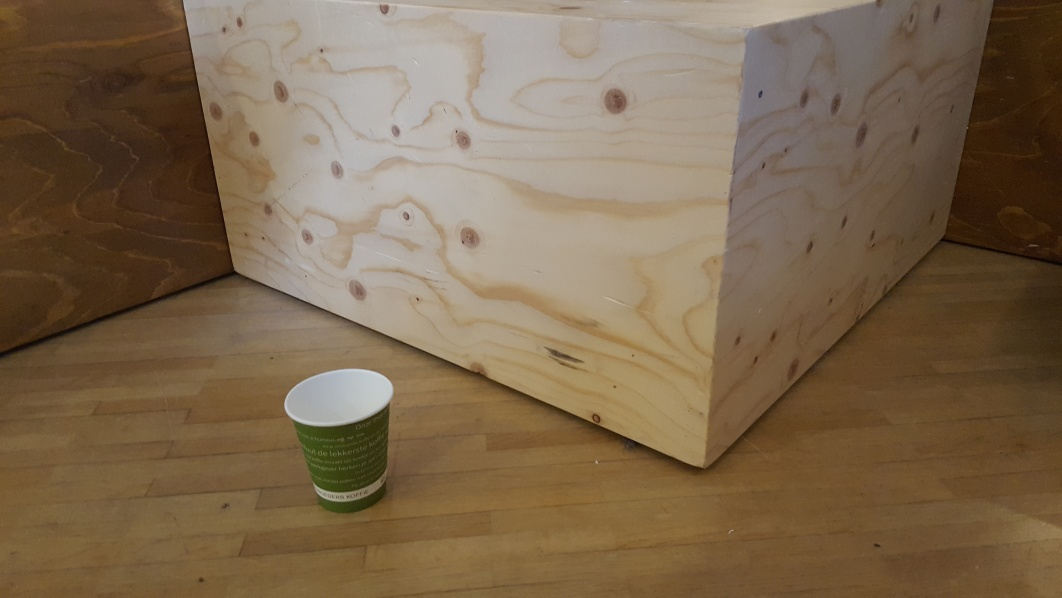cup: (283, 368, 399, 515)
